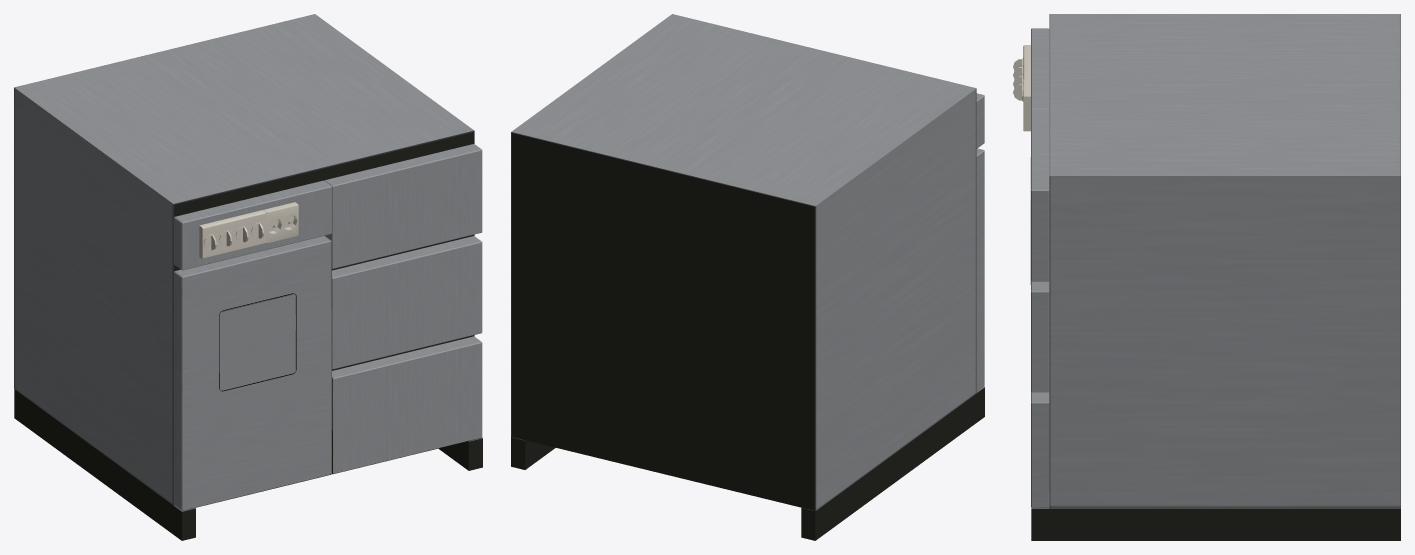
The model's file is LC_3085_Chiffonier_LOD3.fbx.
3 views of the same model, side by side, from view 1: azimuth 30°, elevation 25°; view 2: azimuth 150°, elevation 25°; view 3: azimuth 270°, elevation 25° (orthographic). The views are drawn at different scales.
Parts seen in each view (by area): view 1: LC_3085_Ch_LOD3; view 2: LC_3085_Ch_LOD3; view 3: LC_3085_Ch_LOD3.
Part boxes in pixels (x1=…): LC_3085_Ch_LOD3: x1=14, y1=14, x2=482, y2=540; LC_3085_Ch_LOD3: x1=511, y1=14, x2=984, y2=540; LC_3085_Ch_LOD3: x1=1013, y1=14, x2=1400, y2=540.
Size of the model in its own units: 82.91 by 87.08 by 83.85.
1 material, 1 textured.
